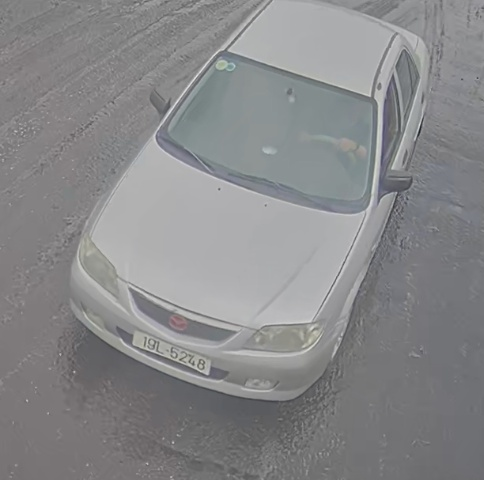vehicle plate: (130, 324, 218, 381)
